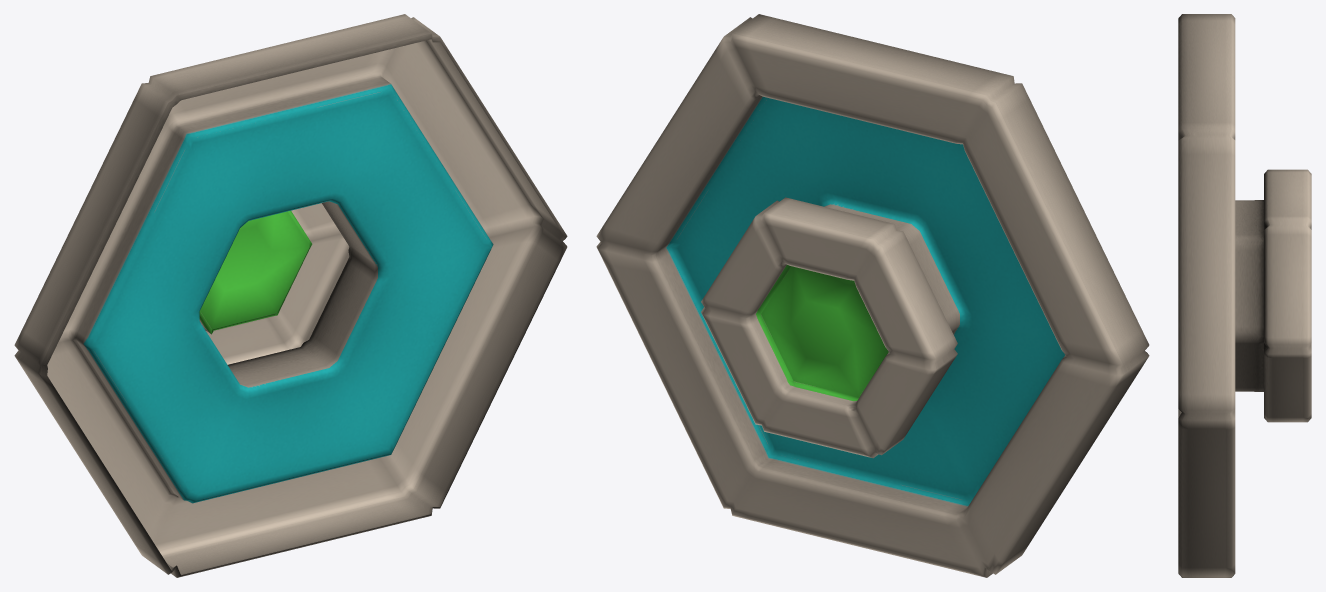
Rendered from fountain2.fbx.
The picture shows the model from 3 angles, left to right: view 1: azimuth 30°, elevation 25°; view 2: azimuth 150°, elevation 25°; view 3: azimuth 270°, elevation 25°; orthographic projection. The views are drawn at different scales.
Visible parts, largest first — view 1: fountain; view 2: fountain; view 3: fountain.
Part boxes in pixels (left/top/right/bottom): fountain: left=14, top=14, right=567, bottom=577; fountain: left=596, top=14, right=1149, bottom=577; fountain: left=1178, top=14, right=1311, bottom=577.
Bounding box in the file's own units: 59360 × 51962 × 14000.
